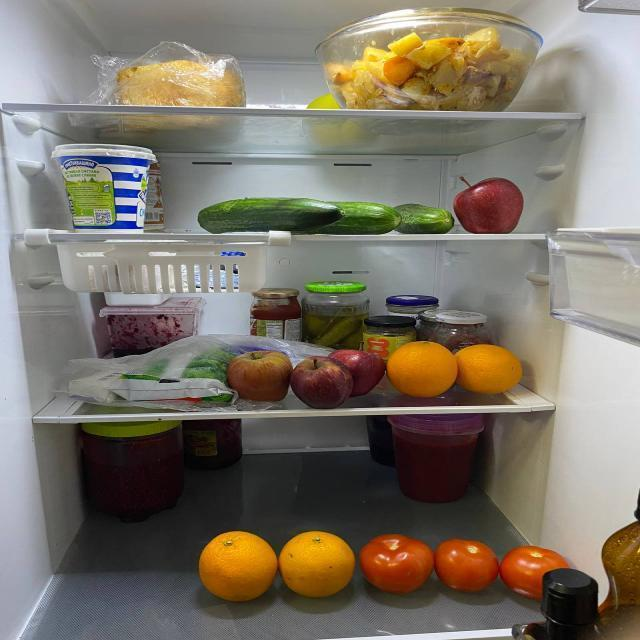apple: (454, 178, 522, 235), (291, 355, 354, 410), (228, 350, 290, 402), (328, 349, 386, 397)
cucumber: (196, 196, 344, 234), (290, 202, 402, 236), (390, 203, 454, 236)
orange: (198, 530, 278, 602), (279, 531, 357, 598), (386, 341, 460, 398), (451, 344, 524, 394)
tomato: (360, 534, 436, 594), (498, 544, 572, 601), (436, 539, 498, 593)
